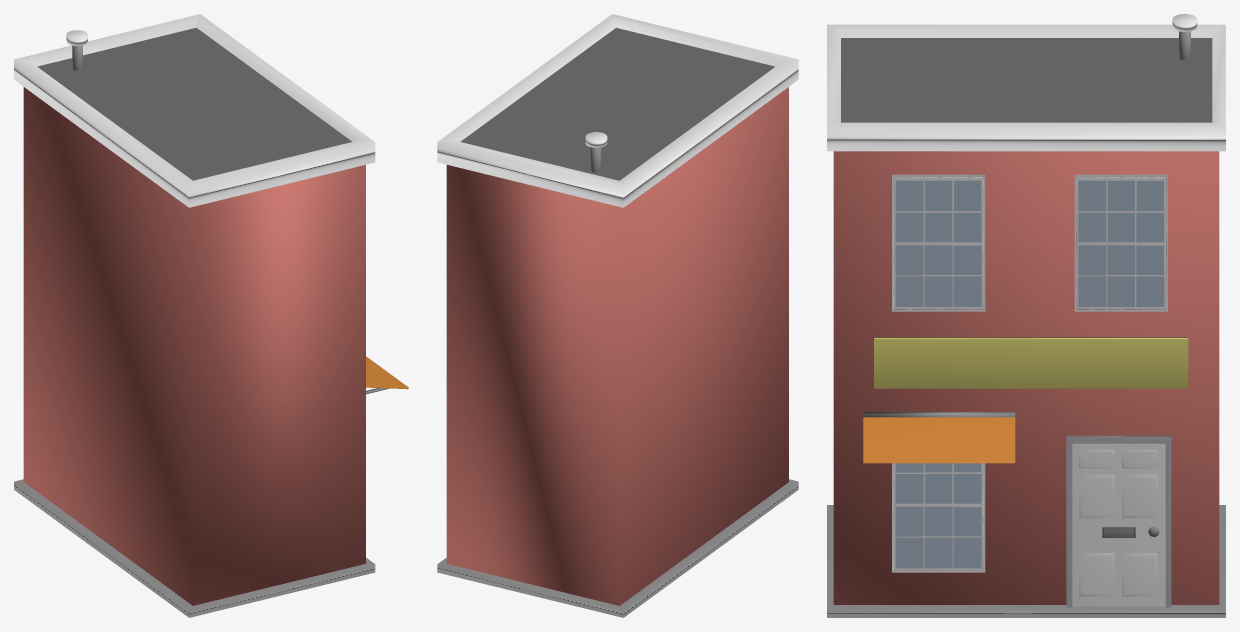
Rendered from townhouse3.fbx.
The picture shows the model from 3 angles, left to right: view 1: azimuth 30°, elevation 25°; view 2: azimuth 150°, elevation 25°; view 3: azimuth 270°, elevation 25°; orthographic projection. The views are drawn at different scales.
Visible parts, largest first — view 1: Cube, Cube.003, Cube.001, Cube.002, Cube.017; view 2: Cube, Cube.003, Cube.001, Cube.002; view 3: Cube, Cube.003, Cube.001, Cube.015, Cube.014, Cube.011, Cube.012, Cube.013, Cube.010, Cube.009, Cube.007, Cube.005 (+4 smaller).
Boxes of the visible parts, box(x1,y1,x2,y2) form: Cube: box(23, 87, 365, 605); Cube.003: box(37, 27, 351, 180); Cube.001: box(14, 14, 375, 207); Cube.002: box(14, 479, 375, 617); Cube.017: box(366, 356, 408, 389); Cube: box(446, 87, 788, 605); Cube.003: box(460, 27, 774, 180); Cube.001: box(437, 14, 798, 207); Cube.002: box(437, 479, 798, 617); Cube: box(833, 151, 1219, 604); Cube.003: box(841, 38, 1212, 122); Cube.001: box(827, 24, 1225, 151); Cube.015: box(874, 337, 1188, 388); Cube.014: box(1074, 174, 1167, 311); Cube.011: box(892, 174, 985, 311); Cube.012: box(895, 180, 981, 306); Cube.013: box(1078, 180, 1164, 306); Cube.010: box(892, 463, 985, 572); Cube.009: box(895, 463, 981, 568); Cube.007: box(1072, 443, 1165, 606); Cube.005: box(1079, 450, 1157, 596).
Bounding box in the file's own units: 209 × 388 × 269.
